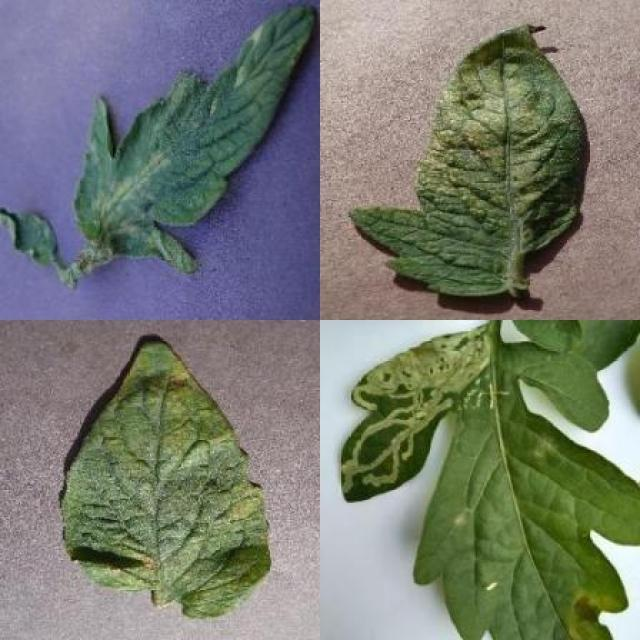Leaf Miner: (338, 320, 640, 640)
Leaf Mold: (75, 1, 315, 272)
Spider Mites: (348, 26, 586, 294), (60, 340, 273, 620)
